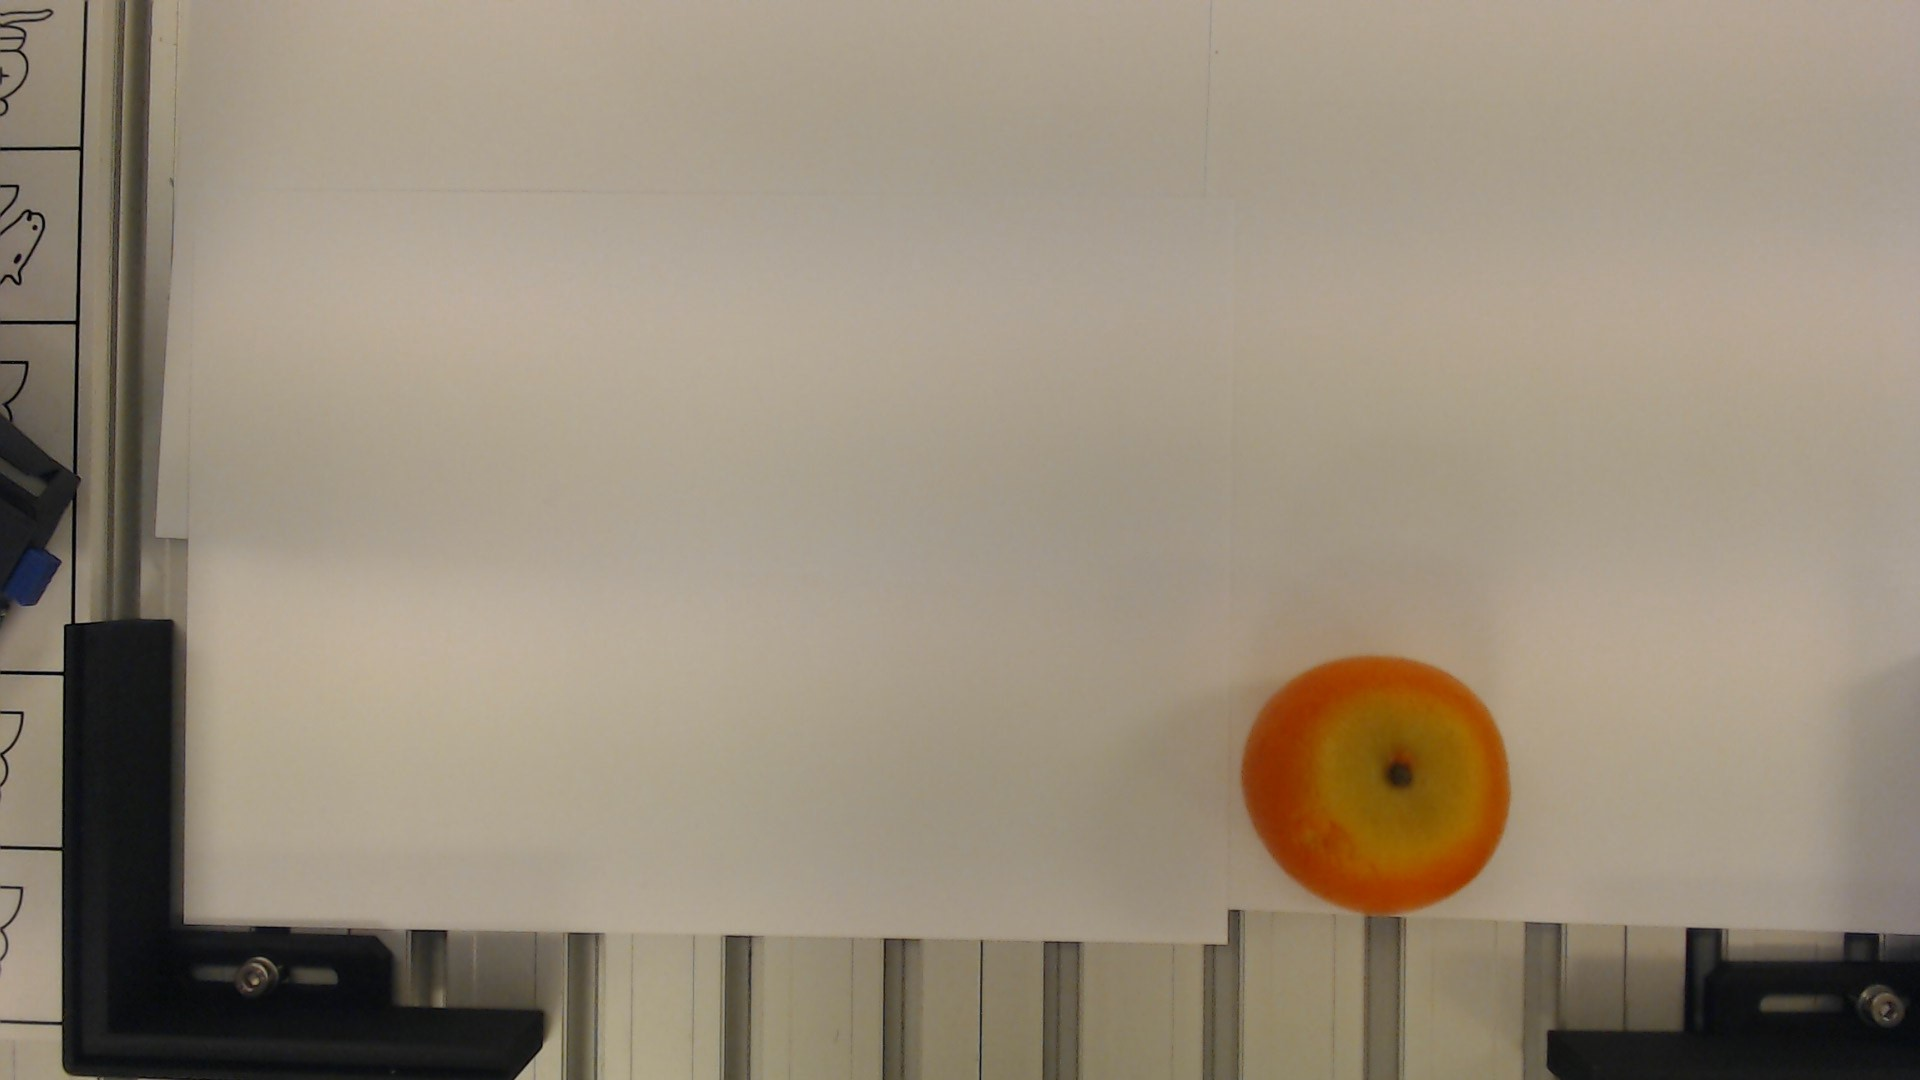Mandarin: (1229, 644, 1524, 919)
